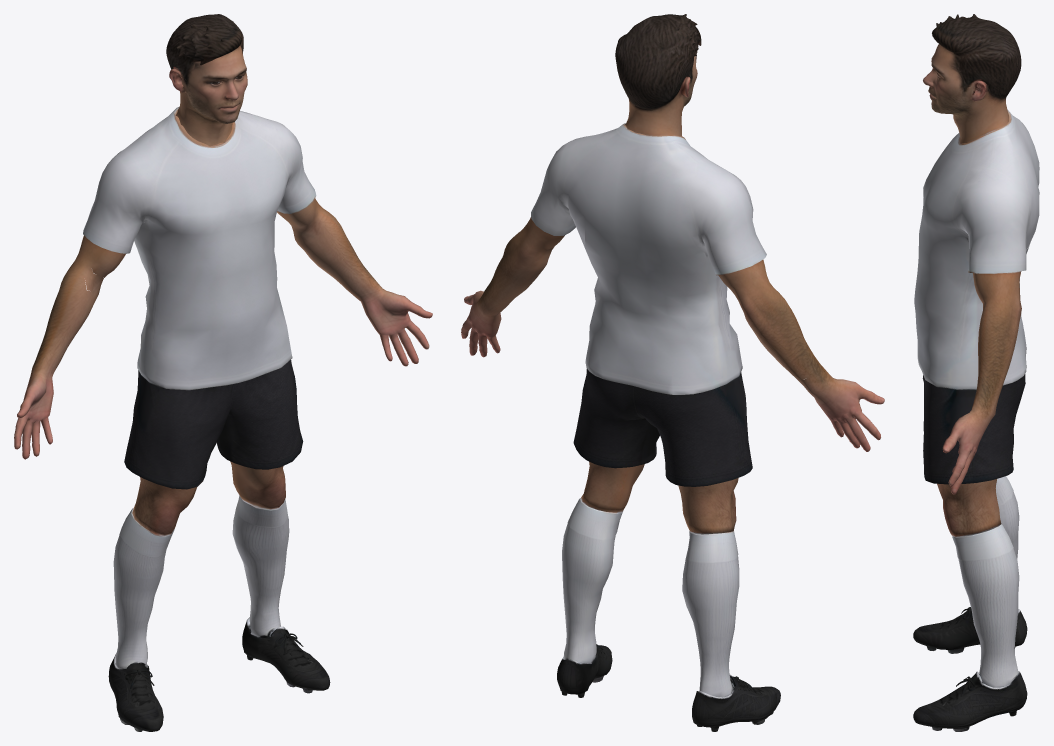
Rendered from ReplayXI_Footballer_P2_Source.glb.
The picture shows the model from 3 angles, left to right: view 1: azimuth 30°, elevation 25°; view 2: azimuth 150°, elevation 25°; view 3: azimuth 270°, elevation 25°; orthographic projection. The views are drawn at different scales.
Visible parts, largest first — view 1: tripo_2d01ec64_b545_400f_9279_fa6e15b3a533; view 2: tripo_2d01ec64_b545_400f_9279_fa6e15b3a533; view 3: tripo_2d01ec64_b545_400f_9279_fa6e15b3a533.
Part boxes in pixels (bbox=[...]): tripo_2d01ec64_b545_400f_9279_fa6e15b3a533: bbox=[14, 14, 432, 731]; tripo_2d01ec64_b545_400f_9279_fa6e15b3a533: bbox=[461, 14, 884, 731]; tripo_2d01ec64_b545_400f_9279_fa6e15b3a533: bbox=[913, 14, 1039, 731].
Bounding box in the file's own units: 0.6411 × 0.9995 × 0.1714.
1 material, 1 textured.
